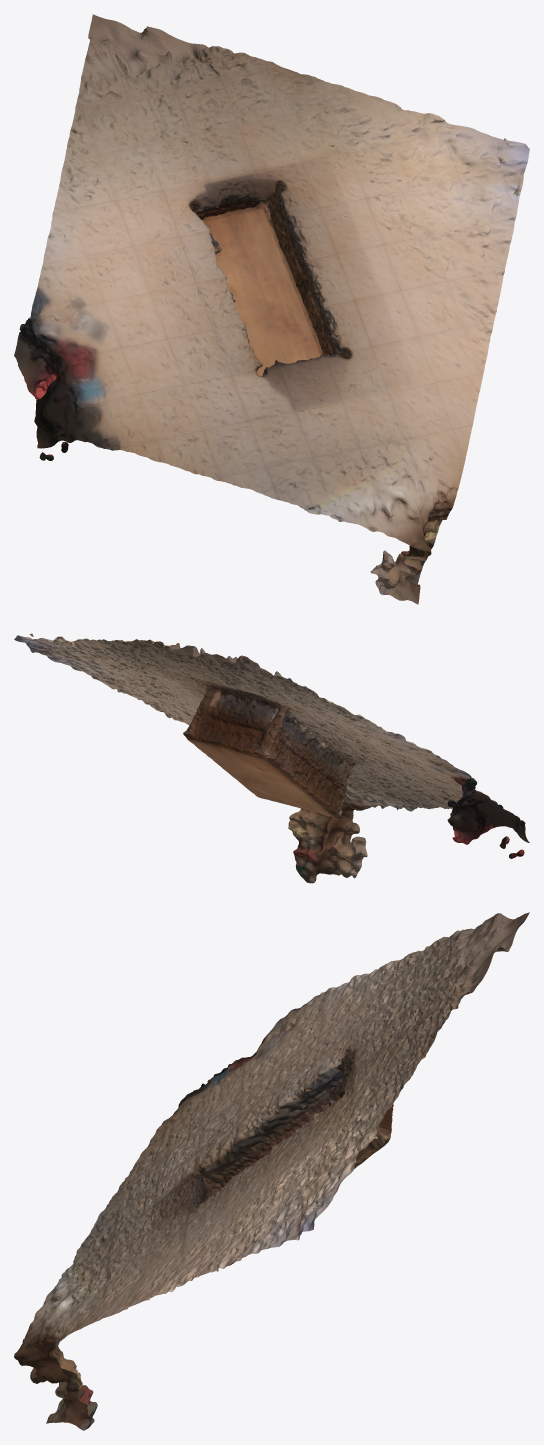
The model's file is TableDesk-AgiSoft.obj.
The picture shows the model from 3 angles, top to bottom: view 1: azimuth 30°, elevation 25°; view 2: azimuth 150°, elevation 25°; view 3: azimuth 270°, elevation 25°; orthographic projection. The views are drawn at different scales.
Size of the model in its own units: 16 by 12.59 by 12.69.
Materials: 1 (1 with a texture image).
